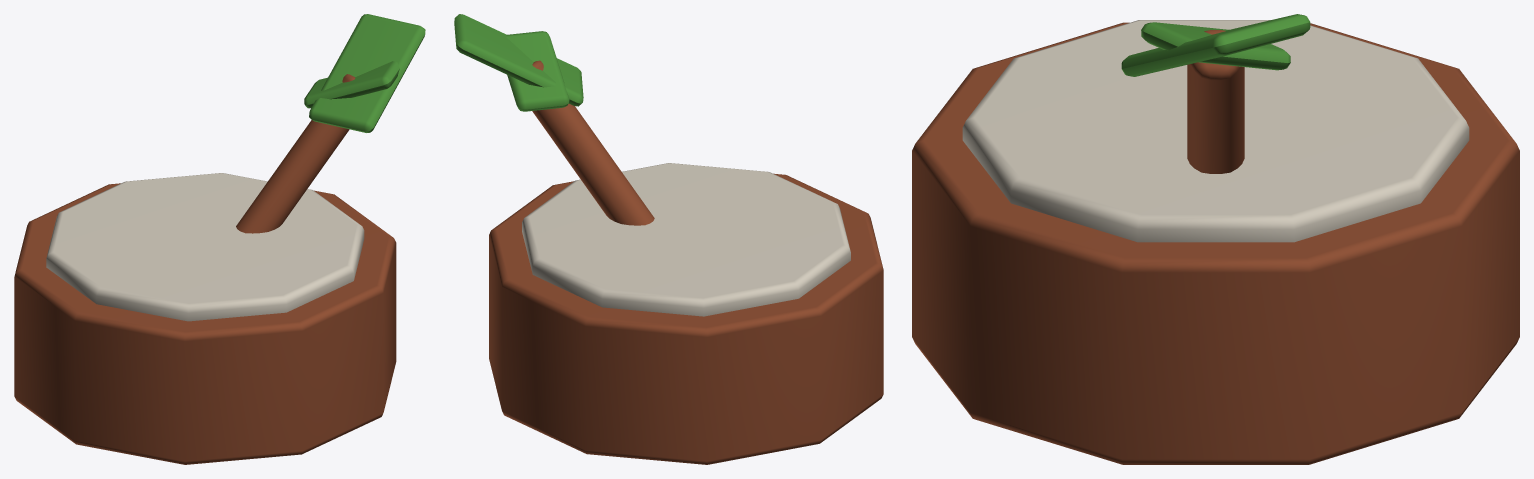
The model's file is camp-sprout.glb.
The picture shows the model from 3 angles, left to right: view 1: azimuth 30°, elevation 25°; view 2: azimuth 150°, elevation 25°; view 3: azimuth 270°, elevation 25°; orthographic projection. The views are drawn at different scales.
Visible parts, largest first — view 1: camp-sprout; view 2: camp-sprout; view 3: camp-sprout.
Boxes of the visible parts, bbox=[...] form: camp-sprout: bbox=[14, 14, 425, 464]; camp-sprout: bbox=[454, 14, 883, 464]; camp-sprout: bbox=[912, 14, 1519, 464].
Bounding box in the file's own units: 1.09 × 0.8283 × 0.96.
